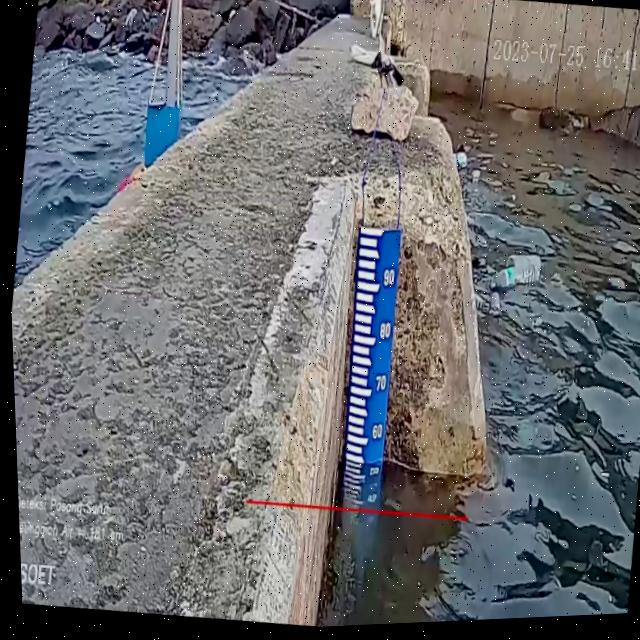water-meter: (320, 215, 419, 514)
